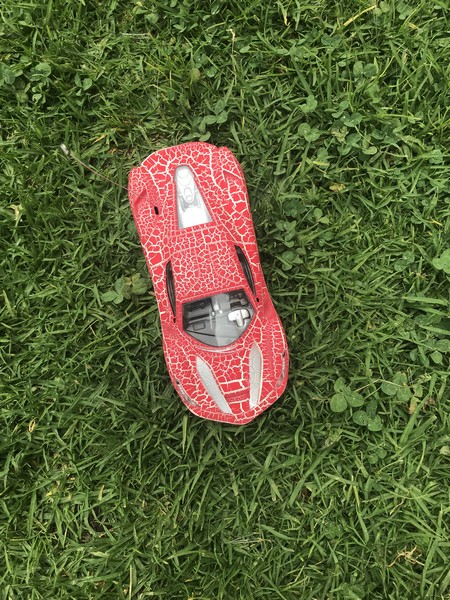RC: (126, 141, 293, 427)
